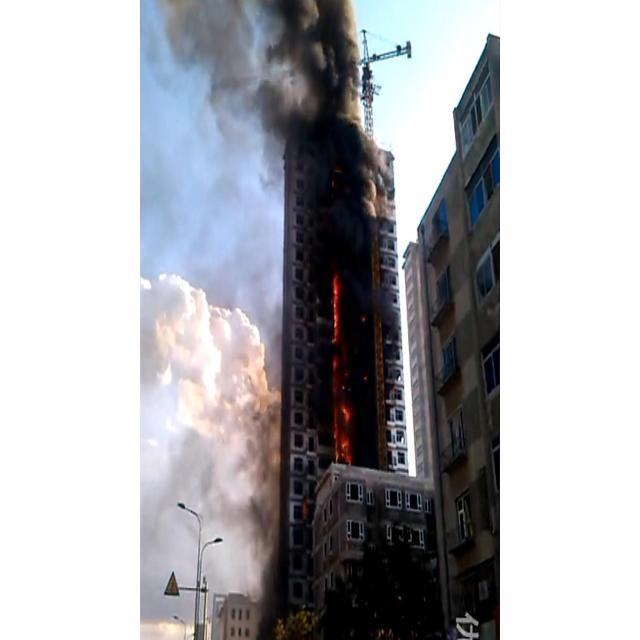Fire: (332, 266, 356, 466)
Smoke: (142, 0, 394, 228), (140, 264, 282, 612)
